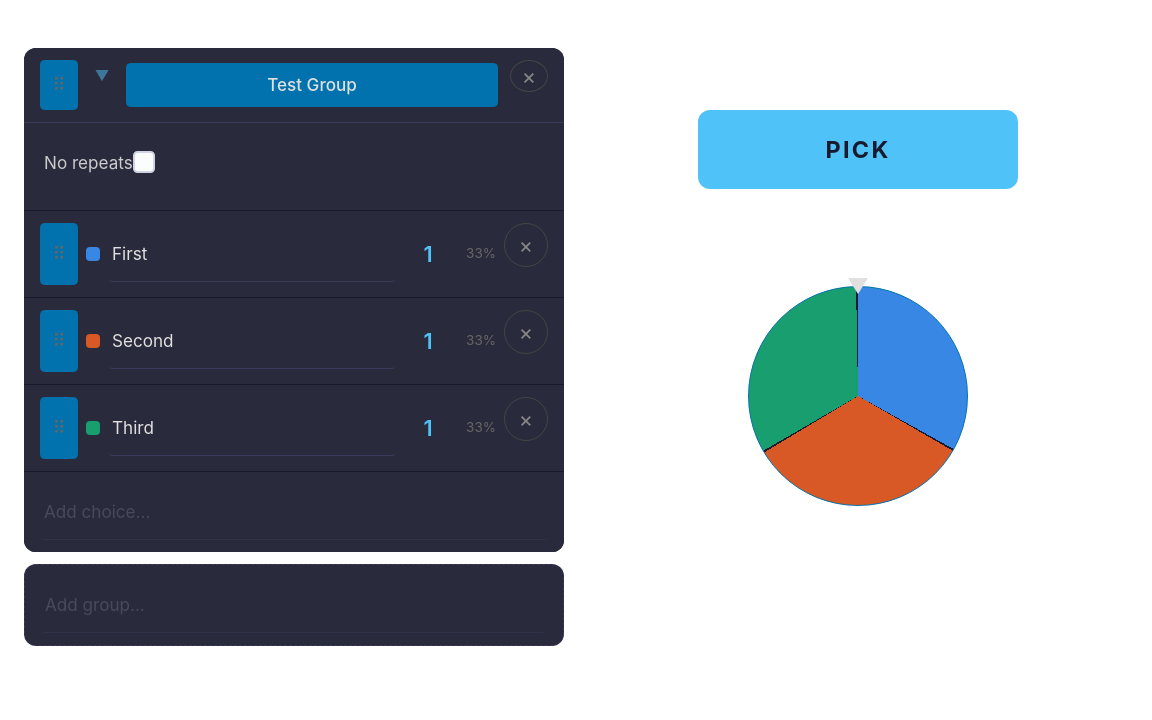
Test: WeightedChoices grouped structure › No-replacement mode › does not wedge the pool when a drawn choice is deleted
This screenshot has width=1152, height=720.
Click the checkbox labelled "No repeats" at {"x": 144, "y": 162}, box [133,151,155,173]
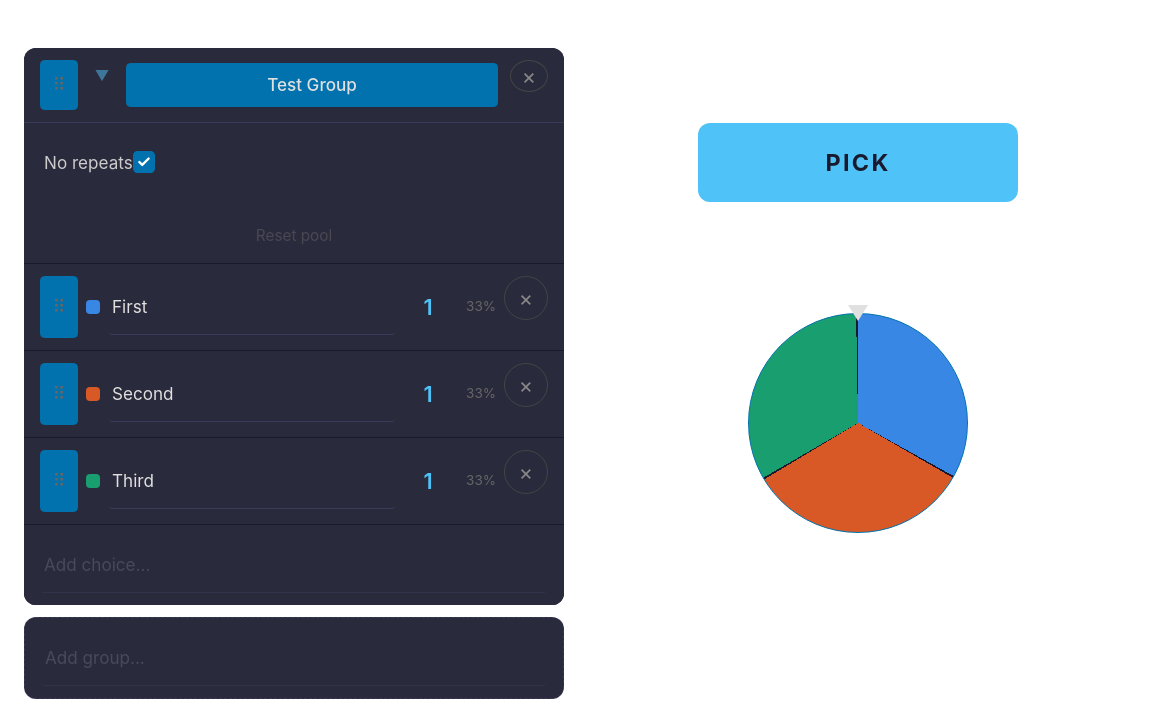
Click the button "PICK" at {"x": 858, "y": 163}, box [698,123,1018,202]
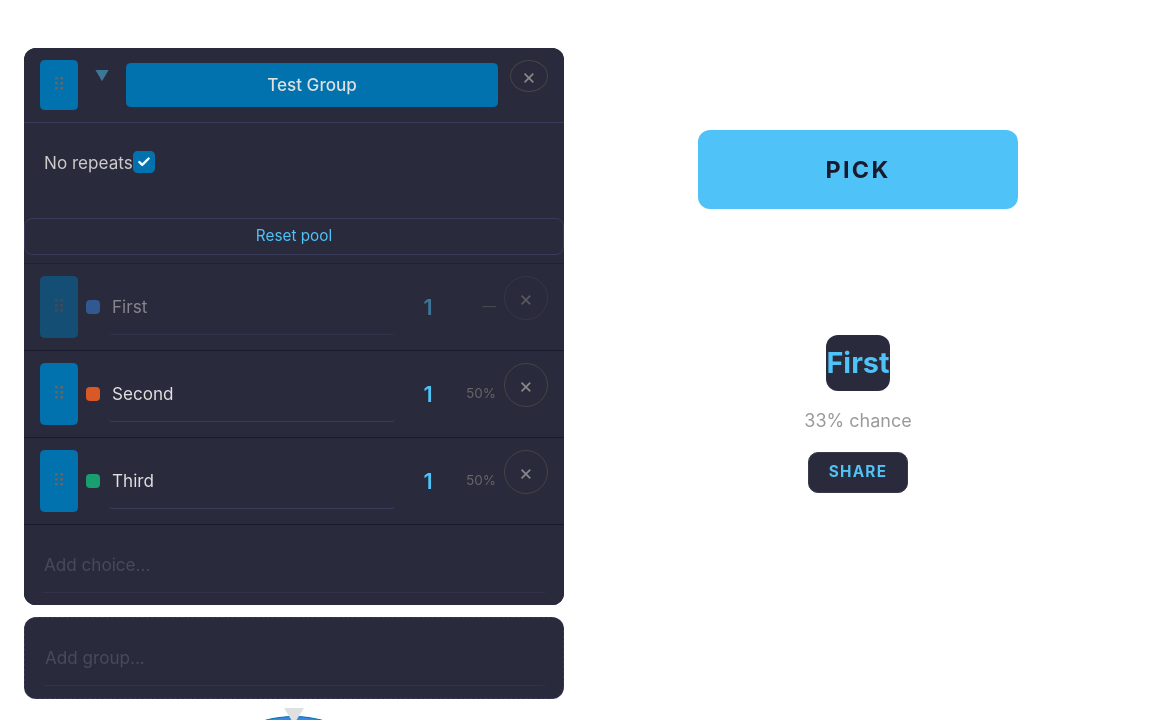
Check: the text "First" is shown, box [826,335,890,391]
Note: Delete the now-drawn "First" row via its own delete button.
Click the 2nd button "×" at {"x": 526, "y": 298}, box [504,276,548,320]
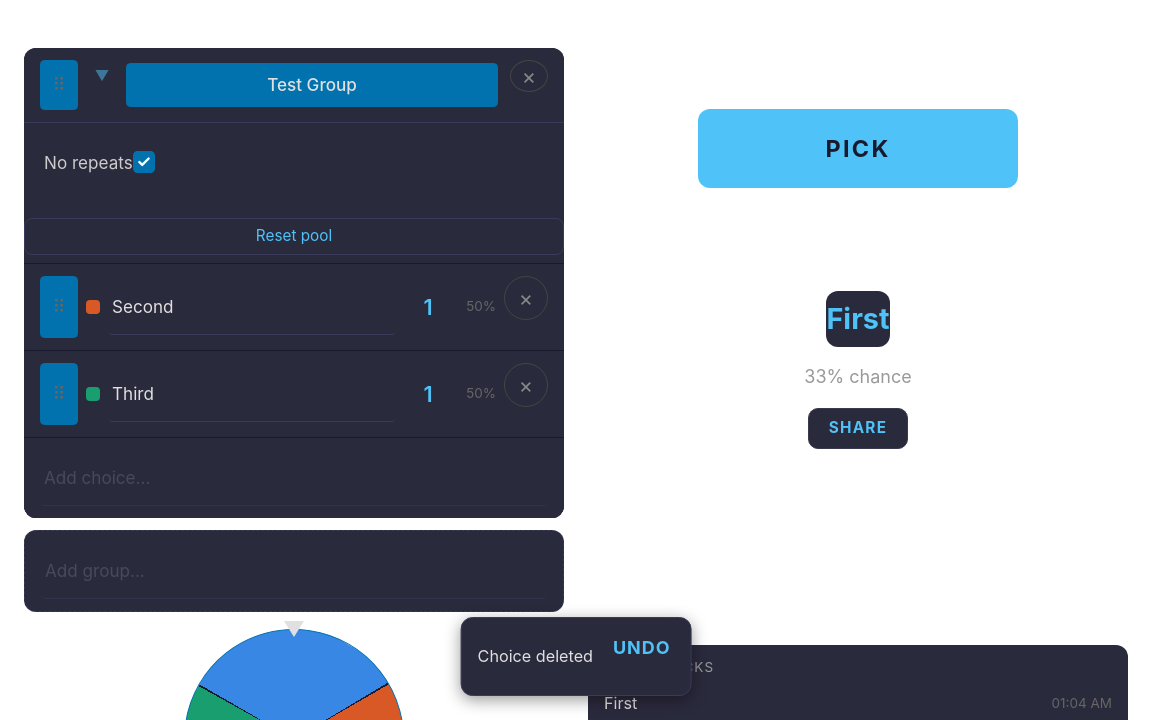
Click the button "PICK" at {"x": 858, "y": 148}, box [698,109,1018,188]
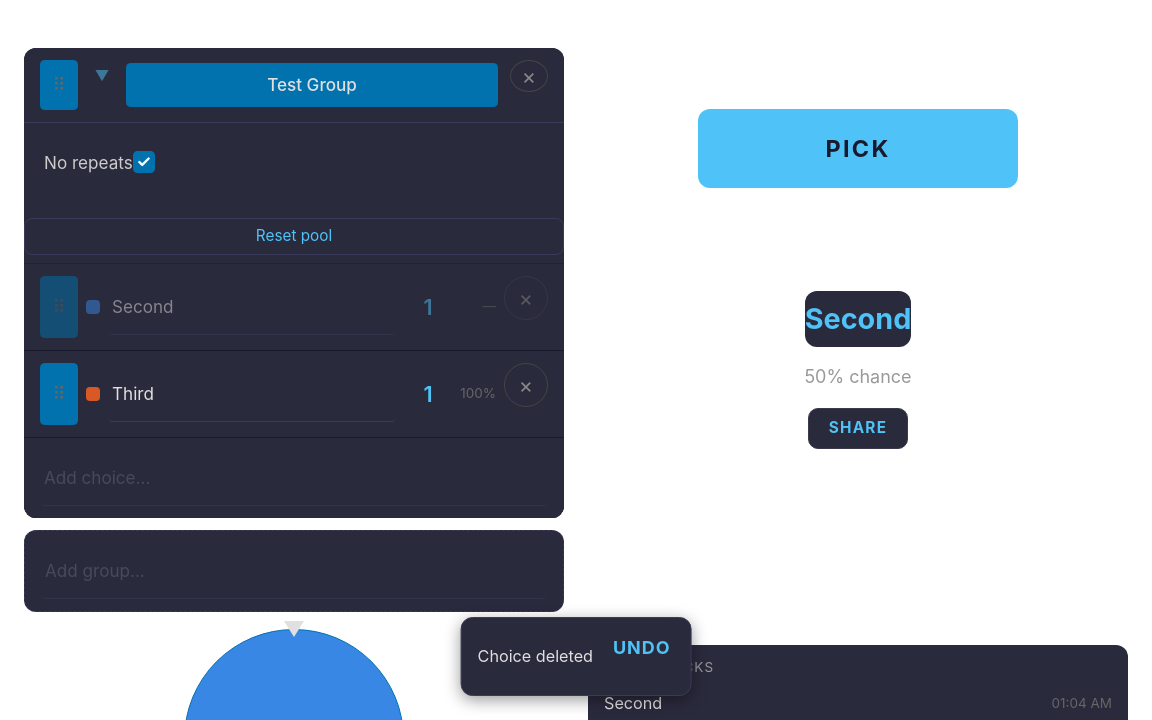
Check: the 1st text "Second" is shown, box [805,291,911,347]
